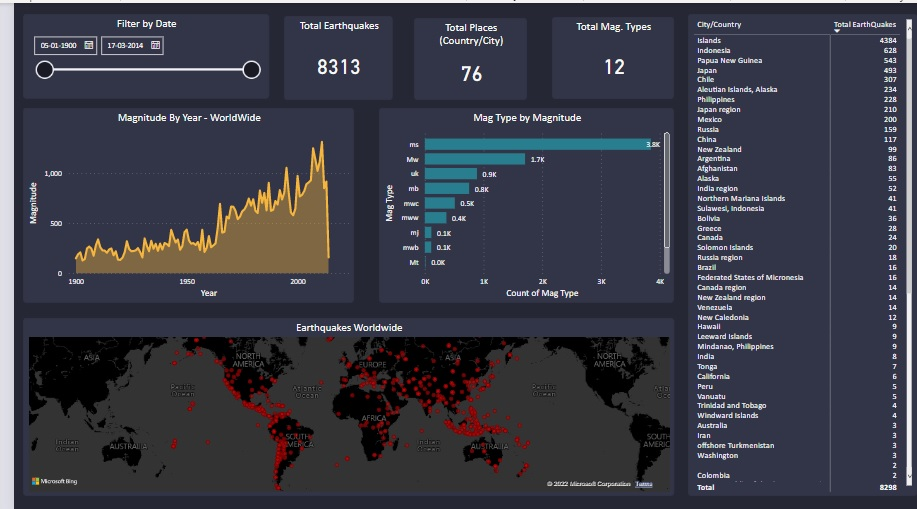

What the dashboard file says about the page in this screenshot:
{"tool":"powerbi","page":{"name":"Page 1","canvas":[1280,720],"ordinal":0},"visuals":[{"type":"areaChart","title":"Magnitude By Year - WorldWide","fields":{"Category":["query.Date.Variation.Date Hierarchy.Year","query.Date.Variation.Date Hierarchy.Quarter","query.Date.Variation.Date Hierarchy.Month","query.Date.Variation.Date Hierarchy.Day","query.Year"],"Y":["Sum(query.mag)"]},"box":[12.8,148.8,469.1,276.4],"z":0},{"type":"pivotTable","fields":{"Rows":["query.City/Country"],"Values":["CountNonNull(query.magType)"]},"box":[955.3,15.6,324.6,683.1],"z":1000},{"type":"card","title":"Total Mag. Types","fields":{"Values":["Count(query.magType)"]},"box":[762.5,19.8,172.9,116.2],"z":2000},{"type":"card","title":"Total Places (Country/City)","fields":{"Values":["query.Totalplaces"]},"box":[566.9,21.3,160.2,116.2],"z":3000},{"type":"card","title":"Total Earthquakes","fields":{"Values":["Count(query.id)"]},"box":[382.7,18.4,154.5,119.1],"z":4000},{"type":"map","title":"Earthquakes Worldwide","fields":{"Category":["query.place"]},"box":[12.8,446.5,922.7,252.3],"z":6000},{"type":"barChart","title":"Mag Type by Magnitude","fields":{"Category":["query.magType"],"Y":["CountNonNull(query.magType)"]},"box":[517.3,148.8,418.1,276.4],"z":7000},{"type":"slicer","title":"Filter by Date","fields":{"Values":["query.Date"]},"box":[12.8,15.6,348.7,120.5],"z":7001}]}

Visuals, with their boxes in screenshot pixels (x1, y1, x2, y2), scaled from the page's 1280x720 canvas onto the 917x509 screenshot:
"Magnitude By Year - WorldWide" areaChart: bbox=(9, 105, 345, 301)
pivotTable - query.City/Country x CountNonNull(query.magType): bbox=(684, 11, 916, 494)
"Total Mag. Types" card: bbox=(546, 14, 670, 96)
"Total Places (Country/City)" card: bbox=(406, 15, 521, 97)
"Total Earthquakes" card: bbox=(274, 13, 385, 97)
"Earthquakes Worldwide" map: bbox=(9, 316, 670, 494)
"Mag Type by Magnitude" barChart: bbox=(371, 105, 670, 301)
"Filter by Date" slicer: bbox=(9, 11, 259, 96)
